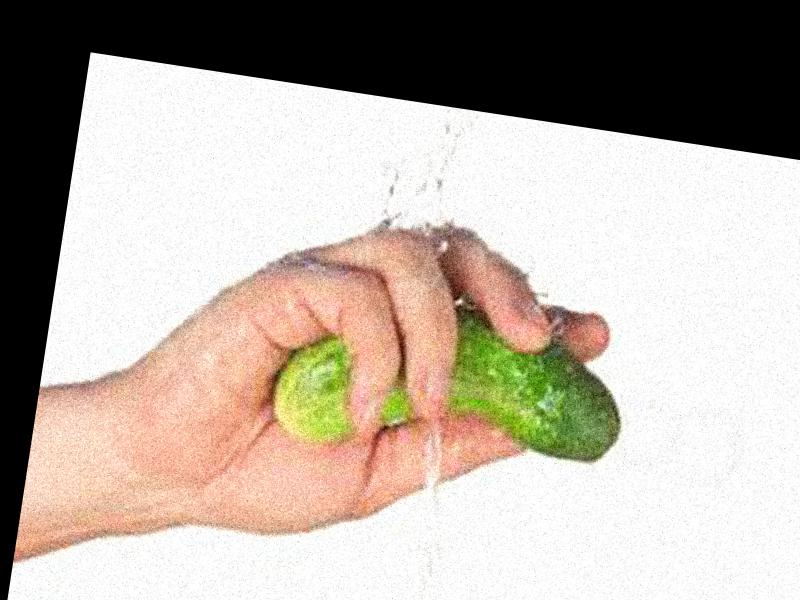Cucumber: (270, 291, 634, 482)
